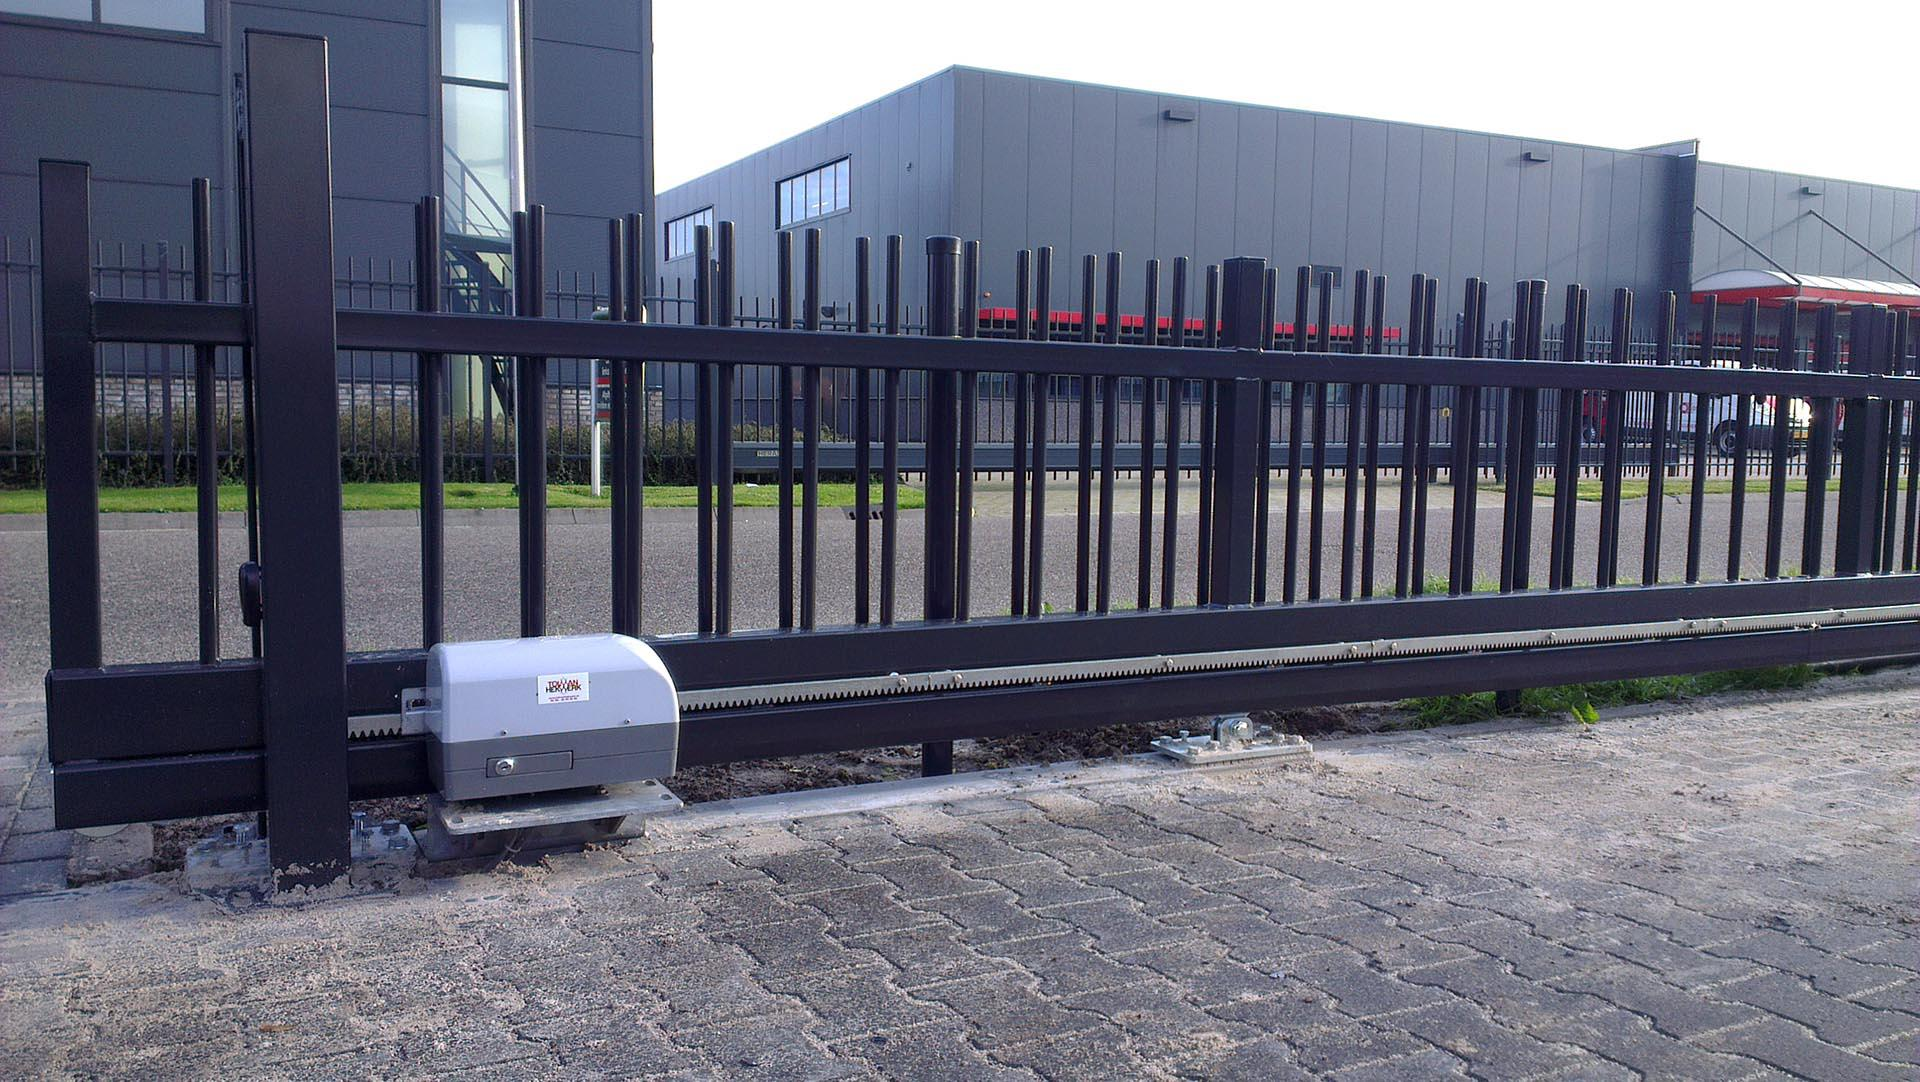obstacle: (0, 0, 1920, 1074)
